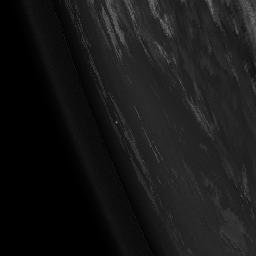Target: (113, 118, 119, 125)
